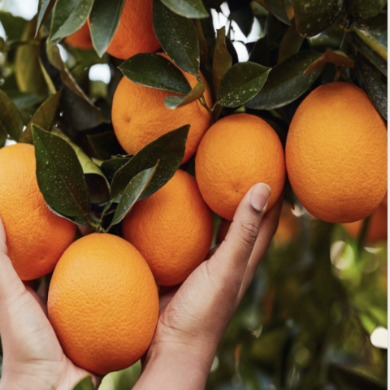orange: (36, 229, 167, 370), (269, 72, 386, 225), (190, 99, 290, 226)
